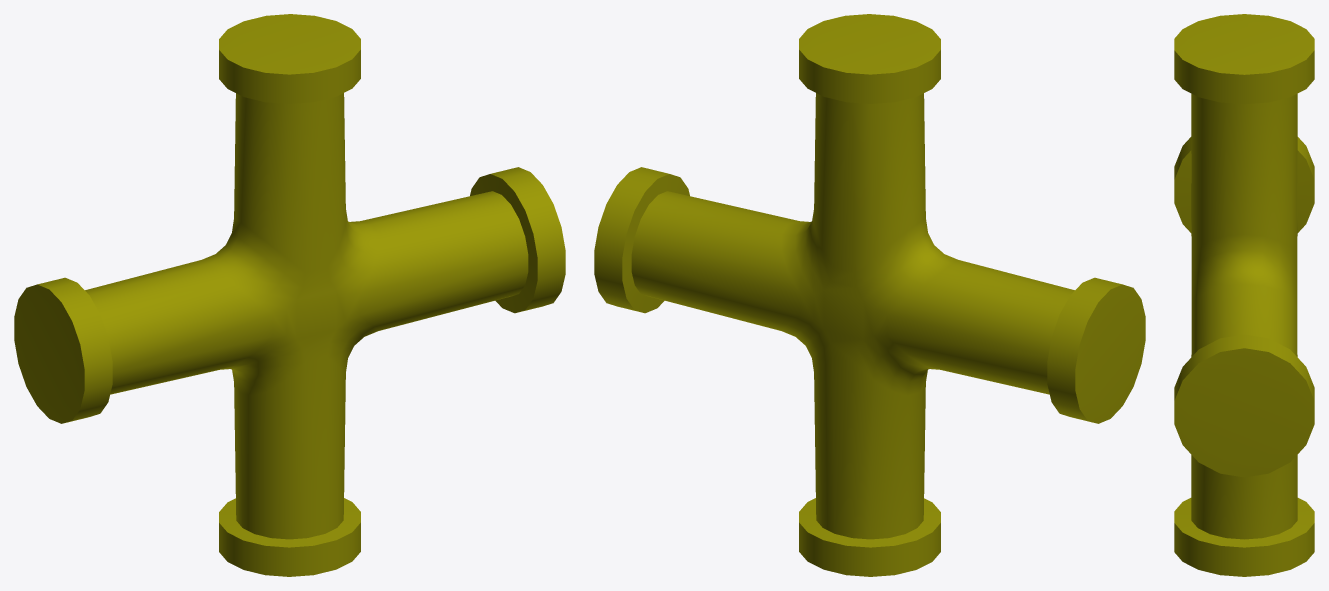
File: Pipe Puzzle_P2 Pipe Modular_04.FBX
3 views of the same model, side by side, from view 1: azimuth 30°, elevation 25°; view 2: azimuth 150°, elevation 25°; view 3: azimuth 270°, elevation 25° (orthographic).
Parts seen in each view (by area): view 1: pipe modular 04; view 2: pipe modular 04; view 3: pipe modular 04.
Part boxes in pixels (<box>): pipe modular 04: <box>14,14,565,576</box>; pipe modular 04: <box>594,14,1145,576</box>; pipe modular 04: <box>1174,14,1314,576</box>.
Bounding box in the file's own units: 23.5 × 23.44 × 5.93.
